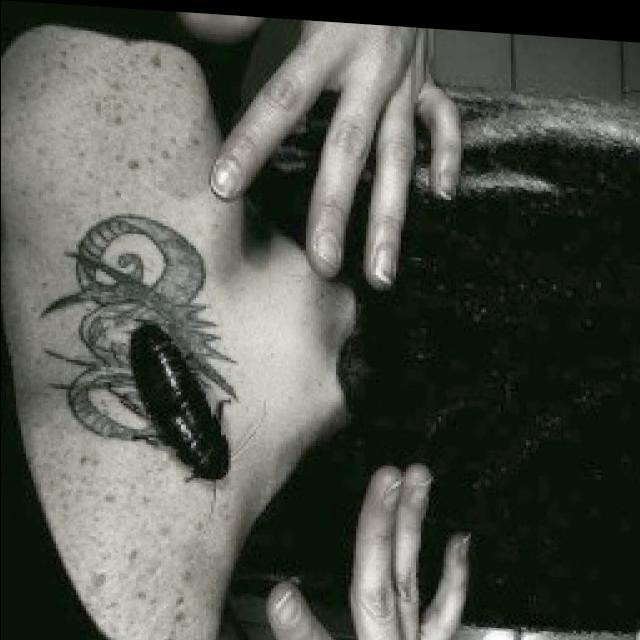cockroach: (38, 210, 243, 487)
